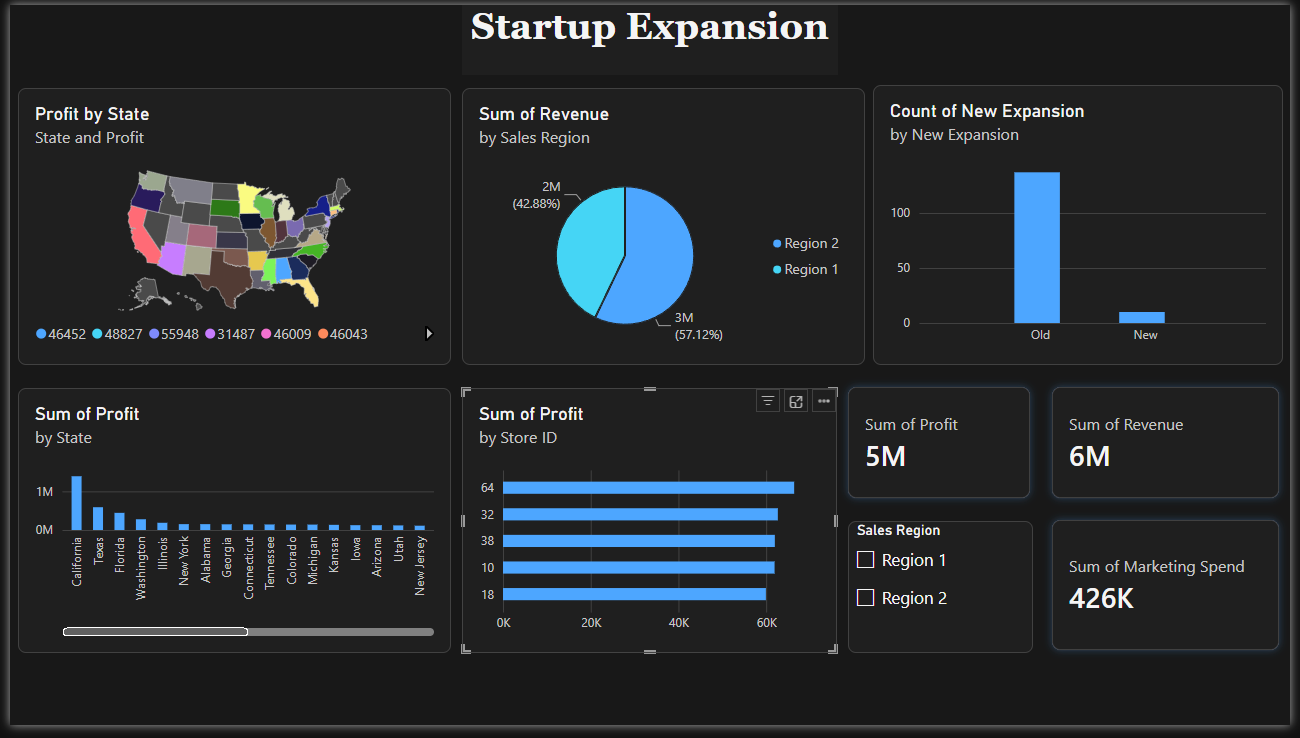

What the dashboard file says about the page in this screenshot:
{"tool":"powerbi","page":{"name":"Overview","canvas":[1280,720],"ordinal":0},"visuals":[{"type":"textbox","box":[452.3,0,375.4,70],"z":0},{"type":"shapeMap","title":"Profit by State ","fields":{"Category":["startup_expansion_modified.State"],"Series":["startup_expansion_modified.Profit"]},"box":[8,83,433,277],"z":1000},{"type":"columnChart","fields":{"Category":["startup_expansion_modified.New Expansion"],"Y":["CountNonNull(startup_expansion_modified.New Expansion)"]},"box":[863,80,410,280],"z":2000},{"type":"columnChart","fields":{"Category":["startup_expansion_modified.State"],"Y":["Sum(startup_expansion_modified.Profit)"]},"box":[8,383,433,265],"z":3000},{"type":"pieChart","fields":{"Category":["startup_expansion_modified.Sales Region"],"Y":["Sum(startup_expansion_modified.Revenue)"]},"box":[452,83,403,277],"z":4000},{"type":"cardVisual","fields":{"Data":["Sum(startup_expansion_modified.Profit)"]},"box":[827,371,204,133],"z":5000},{"type":"cardVisual","title":"Marketing spend","fields":{"Data":["Sum(startup_expansion_modified.Marketing Spend)"]},"box":[1031,504,249,152],"z":6000},{"type":"cardVisual","fields":{"Data":["Sum(startup_expansion_modified.Revenue)"]},"box":[1031,371,249,133],"z":7000},{"type":"slicer","fields":{"Values":["startup_expansion_modified.Sales Region"]},"box":[838,516,185,132],"z":8000},{"type":"barChart","fields":{"Category":["startup_expansion_modified.Store ID"],"Y":["Sum(startup_expansion_modified.Profit)"]},"box":[452,383,375,265],"z":9000}]}

Visuals, with their boxes in screenshot pixels (x1, y1, x2, y2), scaled from the page's 1280x720 canvas onto the 1300x738 screenshot:
textbox: Rect(459, 0, 841, 72)
"Profit by State " shapeMap: Rect(8, 85, 448, 369)
columnChart - startup_expansion_modified.New Expansion x CountNonNull(startup_expansion_modified.New Expansion): Rect(876, 82, 1293, 369)
columnChart - startup_expansion_modified.State x Sum(startup_expansion_modified.Profit): Rect(8, 393, 448, 664)
pieChart - startup_expansion_modified.Sales Region x Sum(startup_expansion_modified.Revenue): Rect(459, 85, 868, 369)
cardVisual - Sum(startup_expansion_modified.Profit): Rect(840, 380, 1047, 517)
"Marketing spend" cardVisual: Rect(1047, 517, 1299, 672)
cardVisual - Sum(startup_expansion_modified.Revenue): Rect(1047, 380, 1299, 517)
slicer - startup_expansion_modified.Sales Region: Rect(851, 529, 1039, 664)
barChart - startup_expansion_modified.Store ID x Sum(startup_expansion_modified.Profit): Rect(459, 393, 840, 664)
